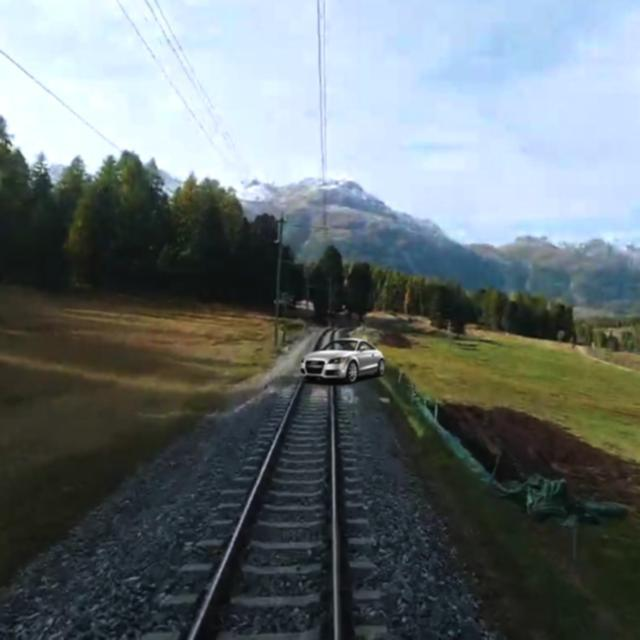rail: (126, 327, 403, 640)
